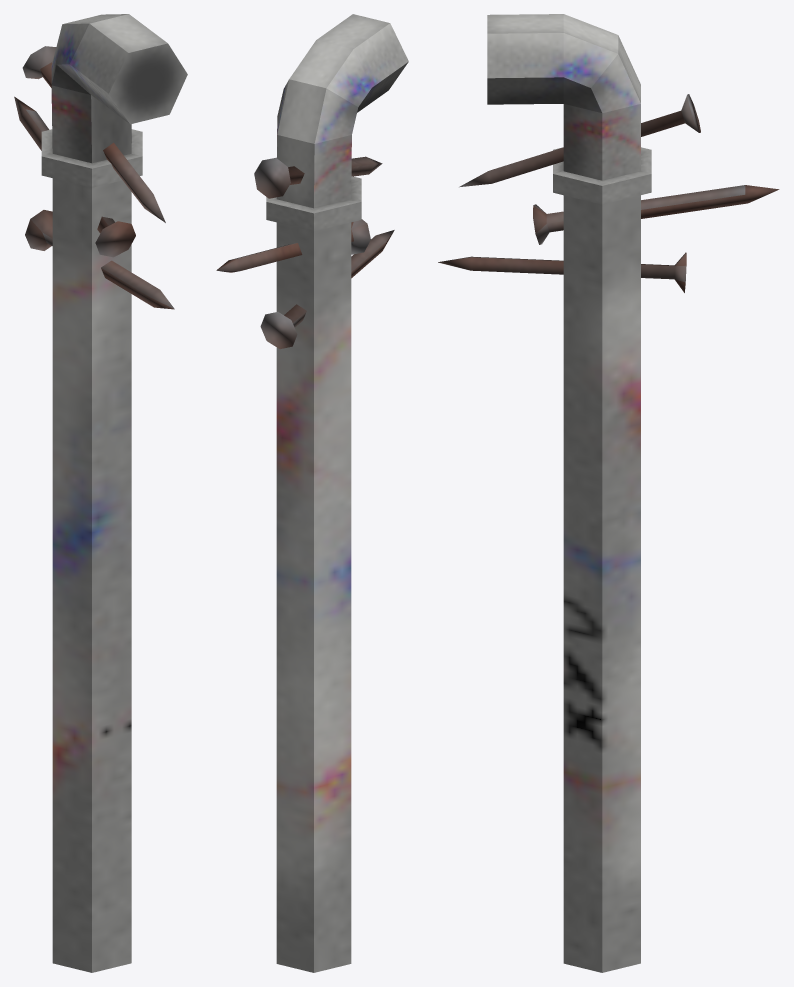
The model's file is GRZ_SpikedLeadPipe.fbx.
3 renders of one model, left to right at view 1: azimuth 30°, elevation 25°; view 2: azimuth 150°, elevation 25°; view 3: azimuth 270°, elevation 25°, orthographic. The views are drawn at different scales.
Visible parts, largest first — view 1: MyObj; view 2: MyObj; view 3: MyObj.
Part boxes in pixels (x1,y1,x2,y2): MyObj: (14,14,187,972); MyObj: (216,14,408,972); MyObj: (438,14,779,972).
Bounding box in the file's own units: 0.0442 × 0.398 × 0.1331.
